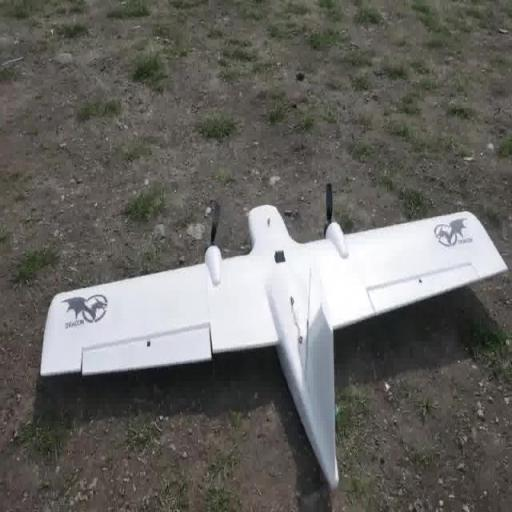uav: (39, 178, 508, 491)
